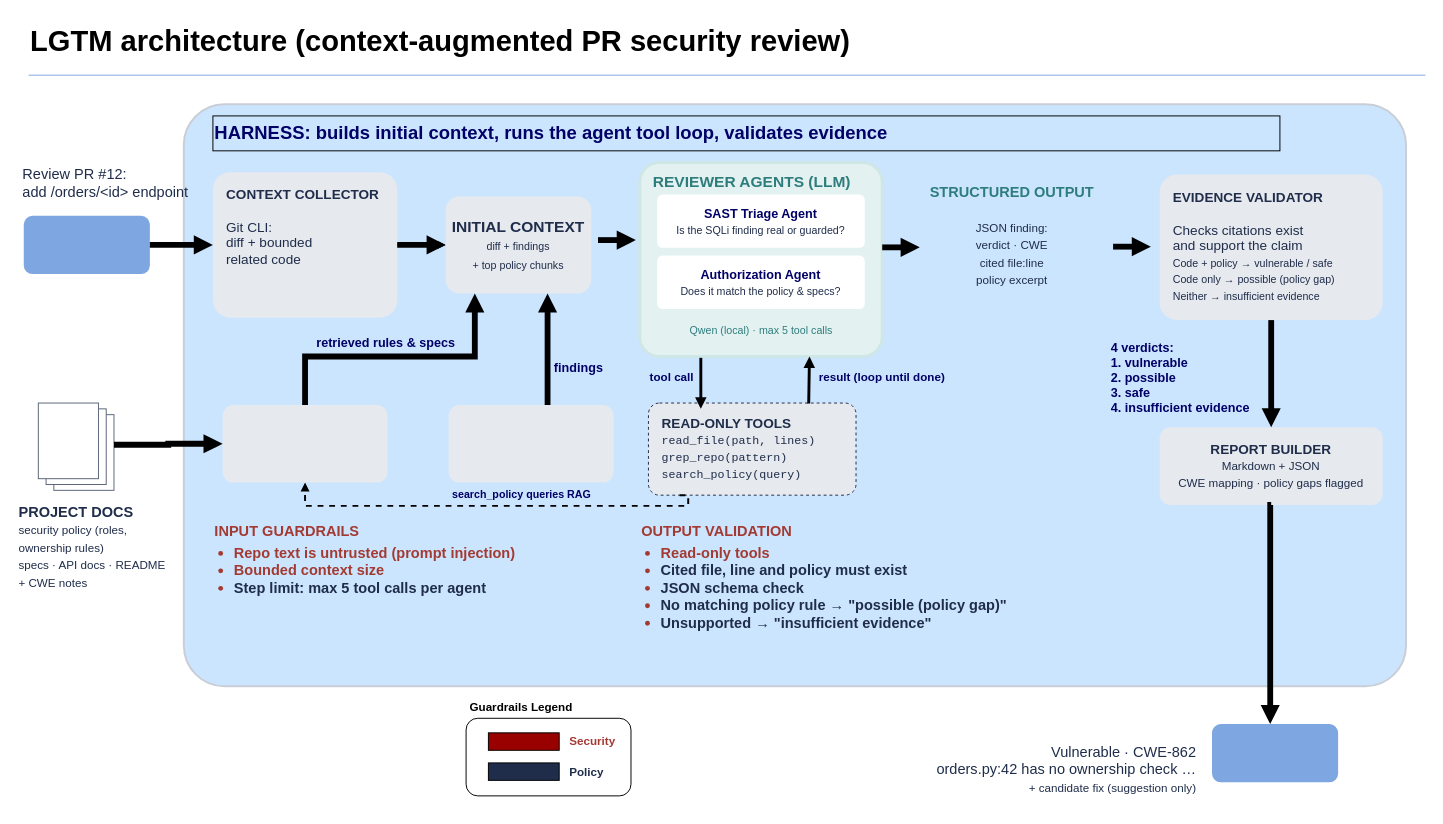
The diagram is 1443 pixels wide and 824 high, and some of its shapes have lost their labels. The shapes that lost their labels are listed below. From the top down, each one's centre as x and y in pixels, then its label:
point (86, 244): PR DIFF
point (304, 443): RAG RETRIEVER local embeddings + vector store
point (530, 443): SEMGREP CE SAST scan of changed files
point (1275, 753): REPORT
